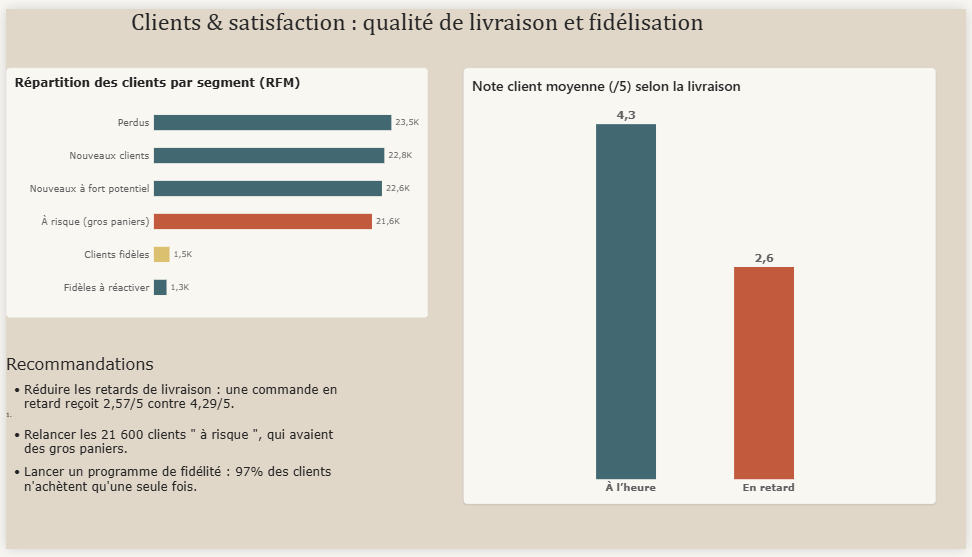

What the dashboard file says about the page in this screenshot:
{"tool":"powerbi","page":{"name":"Clients & qualité ","canvas":[1920,1080],"ordinal":1},"visuals":[{"type":"textbox","box":[0,248,574,175],"z":4000},{"type":"textbox","box":[249.1,0,1333.8,86.4],"z":5000},{"type":"clusteredColumnChart","title":"Note client moyenne (/5) selon la livraison","fields":{"Category":["commandes.Livraison"],"Y":["commandes.Note moyenne"]},"box":[916,117.3,944.8,872.7],"z":5001},{"type":"clusteredBarChart","title":"Répartition des clients par segment (RFM)","fields":{"Category":["rfm.segment"],"Y":["CountNonNull(rfm.customer_unique_id)"]},"box":[0,117.3,843.9,500.2],"z":5002},{"type":"textbox","box":[0,689.5,685.4,391.1],"z":5003}]}

Visuals, with their boxes in screenshot pixels (x1, y1, x2, y2), scaled from the page's 1920x1080 canvas onto the 972x557 screenshot:
textbox: l=0, t=128, r=291, b=218
textbox: l=126, t=0, r=801, b=45
"Note client moyenne (/5) selon la livraison" clusteredColumnChart: l=464, t=60, r=942, b=511
"Répartition des clients par segment (RFM)" clusteredBarChart: l=0, t=60, r=427, b=318
textbox: l=0, t=356, r=347, b=556
